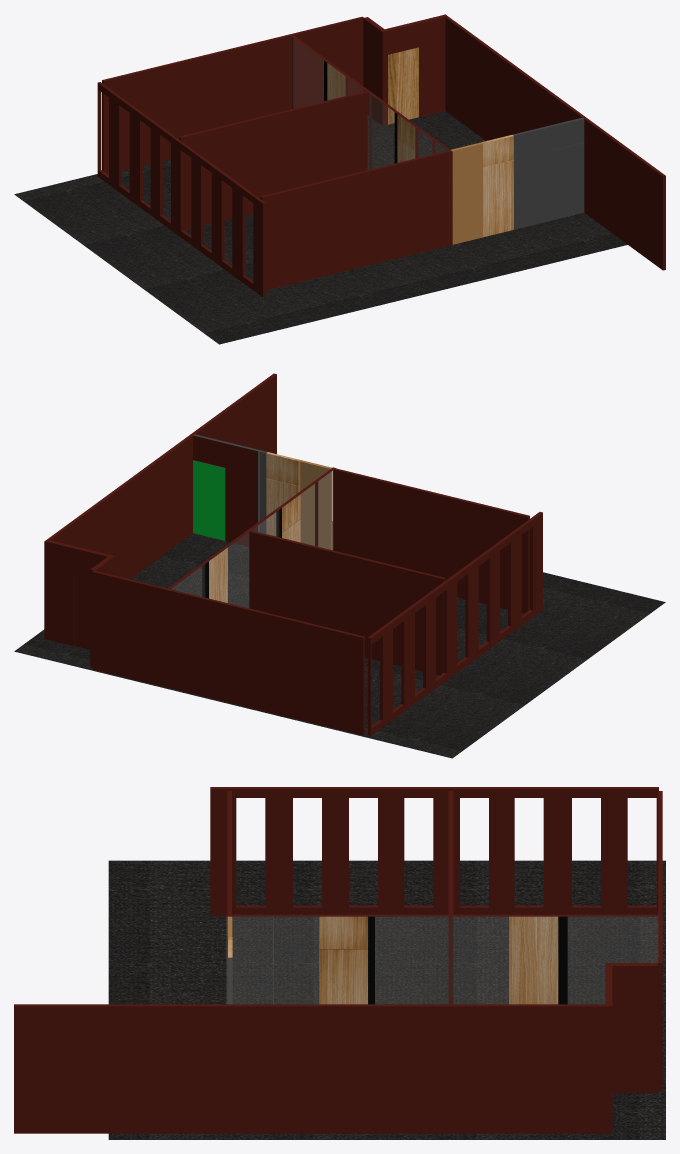
Rendered from room_single_meshes.fbx.
3 views of the same model, one above another, from view 1: azimuth 30°, elevation 25°; view 2: azimuth 150°, elevation 25°; view 3: azimuth 270°, elevation 25° (orthographic). The views are drawn at different scales.
Visible parts, largest first — view 1: floor.003, floor.020, floor.022, floor.021, floor, floor.040, floor.024, floor.039, floor.027, floor.023, floor.038, floor.026 (+24 smaller); view 2: floor.003, floor, floor.020, floor.021, floor.022, floor.040, floor.024, floor.039, floor.027, floor.023, floor.033, floor.028 (+24 smaller); view 3: floor.022, floor.003, floor.032, floor.038, floor.036, floor.033, floor.034, floor.029, floor.028, floor.010, floor.005, floor.011 (+21 smaller).
Part boxes in pixels (x1,y1,x2,y2): floor.003: (14, 111, 627, 344); floor.020: (260, 151, 449, 290); floor.022: (444, 14, 665, 270); floor.021: (179, 91, 367, 230); floor: (102, 34, 290, 174); floor.040: (291, 16, 363, 108); floor.024: (520, 117, 584, 227); floor.039: (385, 15, 445, 124); floor.027: (451, 142, 482, 244); floor.023: (553, 142, 584, 219); floor.038: (363, 17, 387, 125); floor.026: (483, 160, 513, 237); floor.003: (14, 521, 665, 758); floor: (169, 589, 364, 735); floor.020: (334, 468, 529, 613); floor.021: (249, 530, 445, 675); floor.022: (44, 373, 276, 639); floor.040: (92, 570, 167, 687); floor.024: (193, 434, 259, 546); floor.039: (46, 540, 110, 649); floor.027: (298, 460, 332, 550); floor.023: (193, 460, 225, 540); floor.033: (225, 528, 252, 607); floor.028: (315, 467, 335, 550); floor.022: (14, 1004, 612, 1133); floor.003: (108, 860, 665, 1139); floor.032: (375, 914, 444, 1003); floor.038: (605, 963, 658, 1093); floor.036: (567, 914, 662, 1003); floor.033: (444, 914, 508, 1003); floor.034: (509, 914, 558, 1004); floor.029: (273, 914, 320, 1003); floor.028: (226, 914, 273, 1003); floor.010: (546, 787, 569, 914); floor.005: (267, 787, 290, 914); floor.011: (601, 787, 625, 914).
Size of the model in its own units: 2852 by 608 by 2815.
8 materials, 3 textured.
